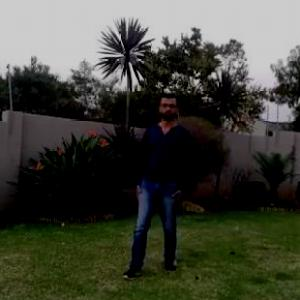follow: (141, 94, 187, 252)
